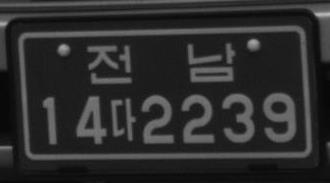1: (37, 95, 64, 145)
2: (140, 93, 176, 146), (180, 92, 215, 144)
3: (220, 92, 256, 144)
4: (74, 94, 108, 146)
9: (261, 91, 298, 144)
다: (109, 96, 137, 142)
전남_D: (85, 41, 237, 85)
